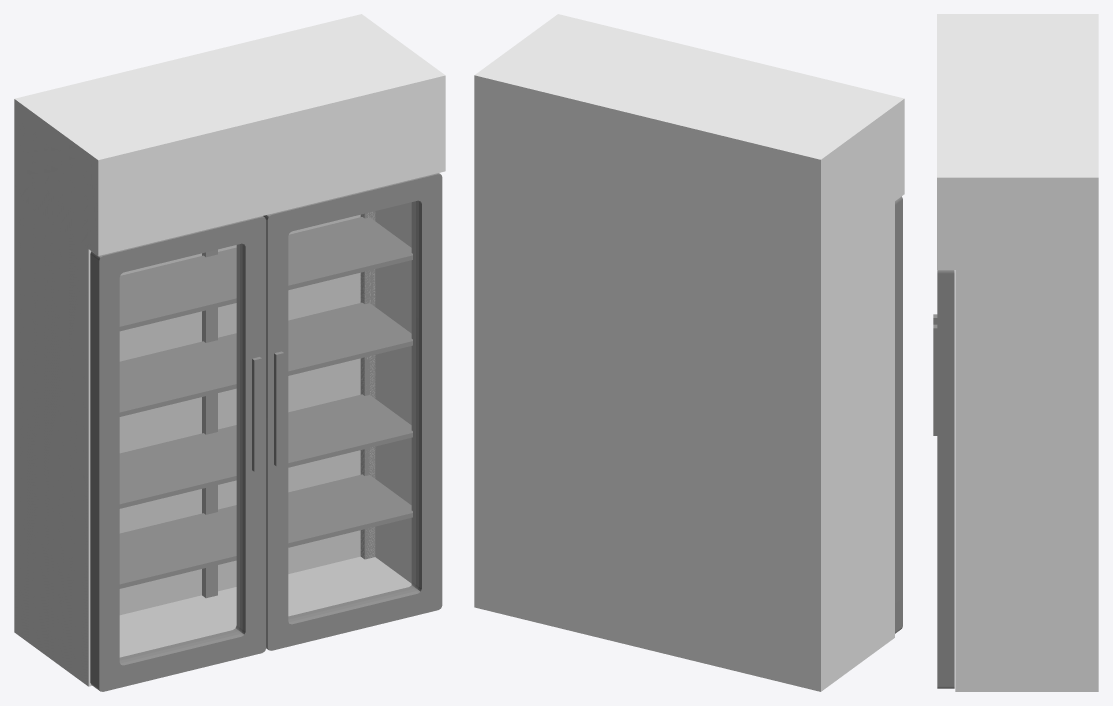
Rendered from LargePharmaceuticalFridge_01.fbx.
3 renders of one model, left to right at view 1: azimuth 30°, elevation 25°; view 2: azimuth 150°, elevation 25°; view 3: azimuth 270°, elevation 25°, orthographic. The views are drawn at different scales.
Visible parts, largest first — view 1: Large_PharmaceuticalFridge_01; view 2: Large_PharmaceuticalFridge_01; view 3: Large_PharmaceuticalFridge_01.
Part boxes in pixels (bbox=[...]): Large_PharmaceuticalFridge_01: bbox=[14, 14, 445, 691]; Large_PharmaceuticalFridge_01: bbox=[474, 14, 904, 691]; Large_PharmaceuticalFridge_01: bbox=[933, 14, 1098, 691].
Size of the model in its own units: 107 by 156 by 45.61.
